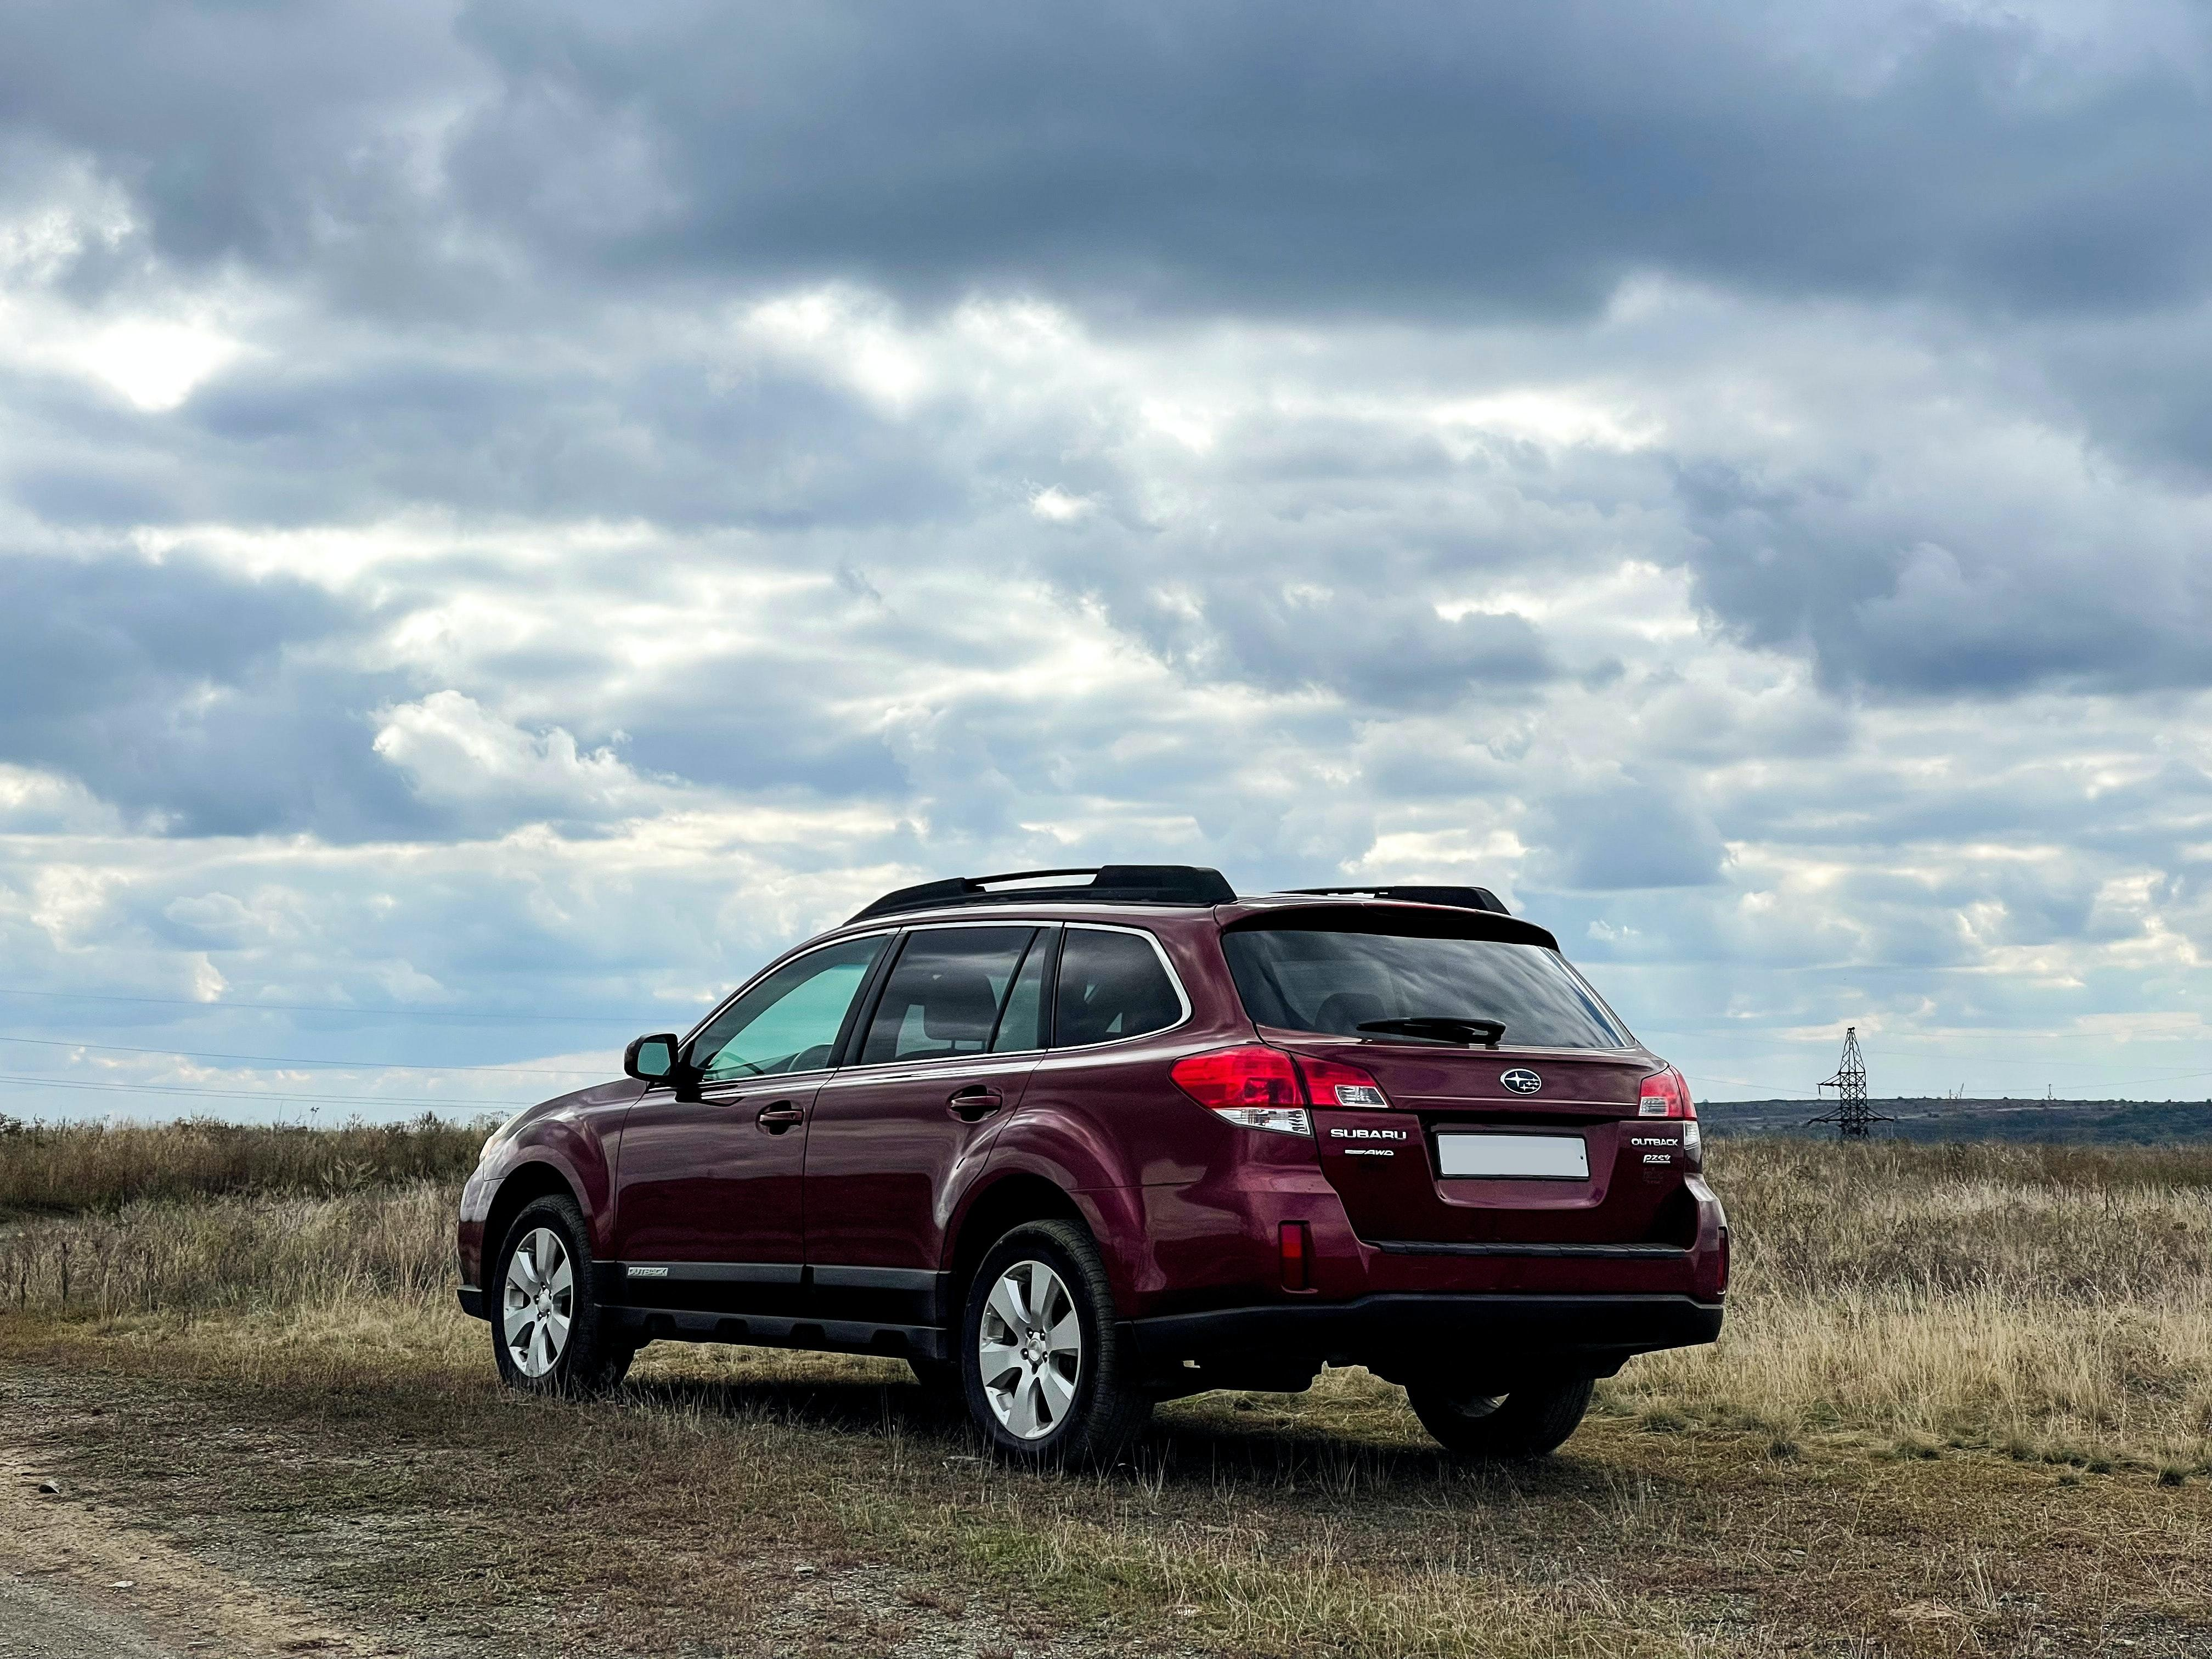subaru: (1486, 1060, 1557, 1103)
